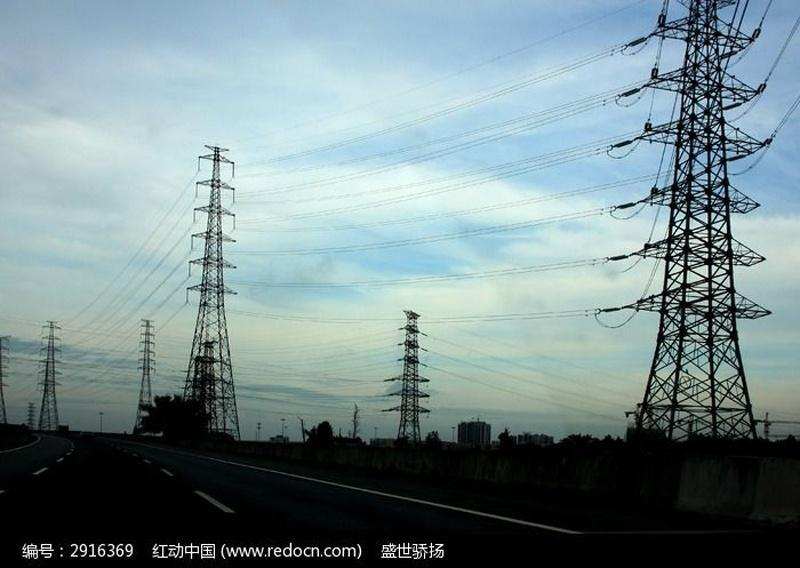power_tower: (583, 0, 781, 441), (176, 143, 244, 440), (382, 307, 434, 446), (131, 318, 160, 436), (36, 320, 64, 430), (0, 334, 15, 424), (623, 36, 647, 50), (25, 400, 36, 428), (610, 138, 634, 150), (605, 254, 629, 265), (618, 88, 642, 99), (614, 202, 636, 212), (599, 307, 620, 315), (750, 26, 762, 40), (656, 13, 667, 26), (756, 83, 768, 94), (648, 67, 658, 78), (762, 138, 775, 146), (380, 392, 394, 398), (643, 122, 653, 130), (650, 186, 658, 196), (185, 288, 190, 304), (188, 262, 192, 278), (190, 235, 194, 251), (419, 361, 428, 368), (232, 190, 236, 205), (381, 408, 393, 413), (195, 184, 199, 198), (232, 164, 236, 178), (233, 216, 237, 230), (192, 210, 196, 223), (197, 158, 201, 171), (383, 378, 396, 382), (421, 347, 429, 353), (421, 332, 428, 338), (397, 342, 403, 348), (397, 357, 403, 363), (426, 382, 431, 388), (426, 397, 430, 404), (426, 413, 430, 419), (396, 328, 404, 330)
